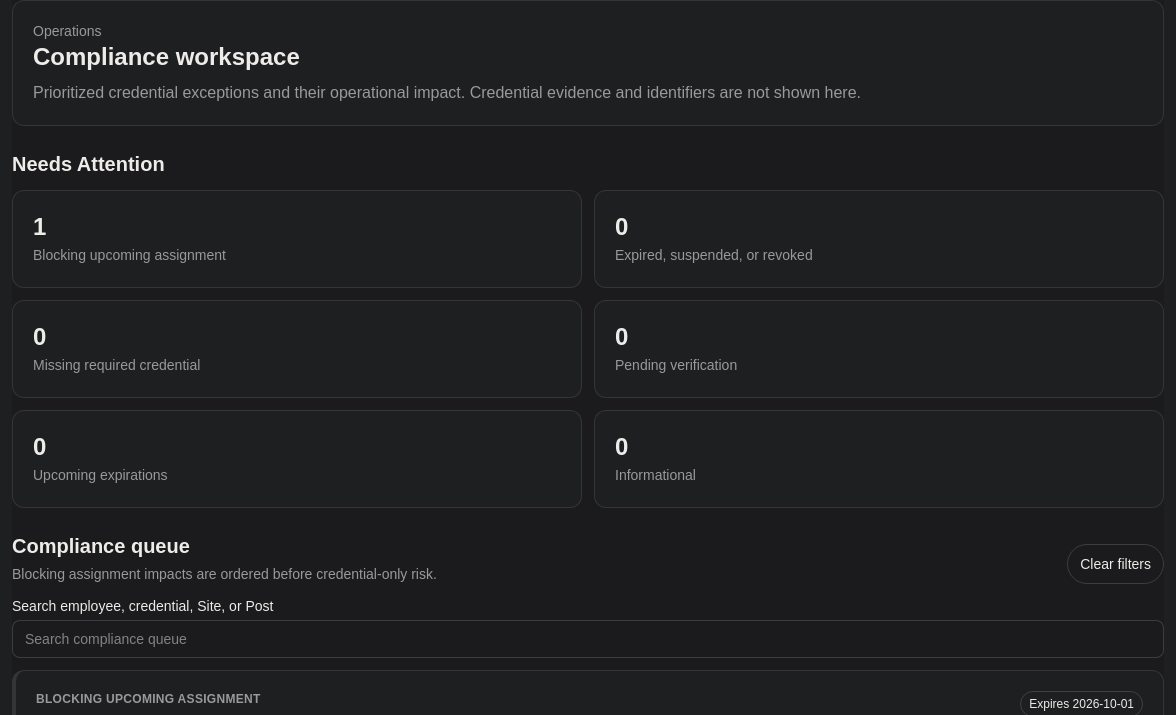
NX5.3 compliance workspace UI › renders priority, safe drilldowns, and a usable filter
Expected: the heading "Compliance workspace" is shown, [33, 43, 300, 70]
In the field with placeholder "Search compliance queue": point(588, 639) [12, 620, 1164, 658], type "absent"
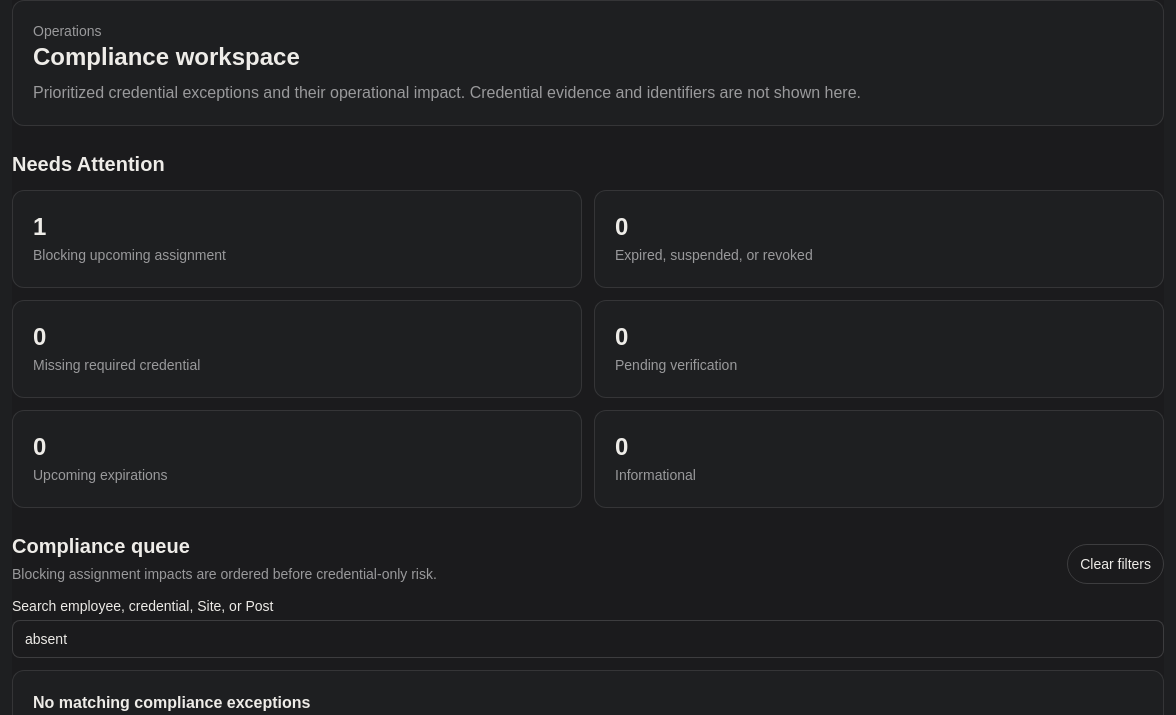
Expected: the heading "No matching compliance exceptions" is shown, [33, 694, 310, 711]
